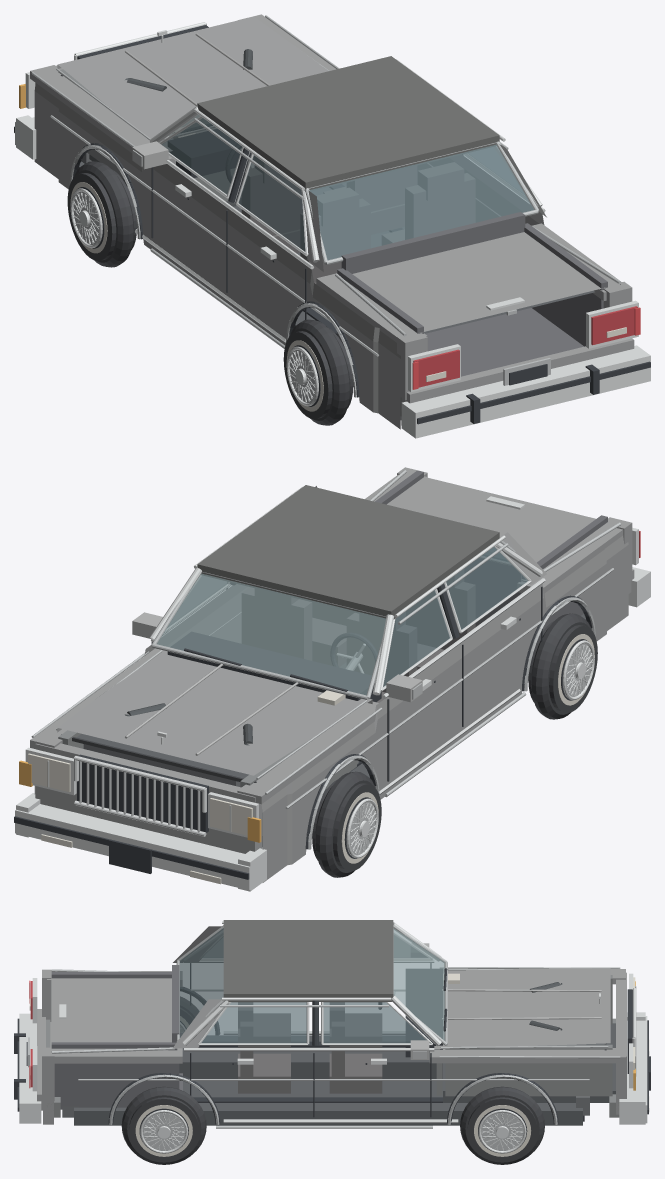
Rendered from Bama_Box_Sedan_Stock.glb.
3 views of the same model, one above another, from view 1: azimuth 30°, elevation 25°; view 2: azimuth 150°, elevation 25°; view 3: azimuth 270°, elevation 25° (orthographic). The views are drawn at different scales.
Visible parts, largest first — view 1: Vinyl_Roof_Structure, Body_Quarter_Left, Hood_Outer_Skin, Tinted_Rear_Glass, Trunk_Lid_Outer, Rear_Bumper_Chrome, Cargo_Floor_Carpet, Cargo_Front_Wall, Rear_Door_Tinted_Window, Front_Door_Tinted_Window, Velour_Seat_Back_04, Trunk_Inner_Carpet_Right (+33 smaller); view 2: Vinyl_Roof_Structure, Body_Quarter_Left, Hood_Outer_Skin, Laminated_Windshield, Trunk_Lid_Outer, Front_Bumper, Dashboard, Front_Nose, Main_Grille_Depth, Velour_Seat_Back_03, Rear_Door_Tinted_Window, Front_Fender_Shelf (+33 smaller); view 3: Vinyl_Roof_Structure, Hood_Outer_Skin, Full_Floorpan, Trunk_Lid_Outer, Engine_Inner_Fender_02, Trunk_Inner_Carpet_Right, Center_Tunnel, Laminated_Windshield, Rear_Door_Tinted_Window_02, Front_Door_Tinted_Window_02, Tinted_Rear_Glass, Front_Fender_Shelf_02 (+46 smaller).
Boxes of the visible parts, box(x1,y1,x2,y2) form: Vinyl_Roof_Structure: box(197, 56, 499, 191); Body_Quarter_Left: box(34, 83, 400, 429); Hood_Outer_Skin: box(57, 16, 327, 151); Tinted_Rear_Glass: box(309, 144, 533, 260); Trunk_Lid_Outer: box(335, 232, 620, 336); Rear_Bumper_Chrome: box(401, 345, 650, 438); Cargo_Floor_Carpet: box(425, 308, 583, 376); Cargo_Front_Wall: box(341, 212, 525, 273); Rear_Door_Tinted_Window: box(238, 155, 305, 251); Front_Door_Tinted_Window: box(161, 118, 242, 194); Velour_Seat_Back_04: box(405, 173, 475, 239); Trunk_Inner_Carpet_Right: box(524, 223, 607, 346); Vinyl_Roof_Structure: box(197, 485, 499, 619); Body_Quarter_Left: box(261, 535, 628, 882); Hood_Outer_Skin: box(57, 650, 372, 775); Laminated_Windshield: box(157, 574, 385, 694); Trunk_Lid_Outer: box(373, 472, 616, 580); Front_Bumper: box(15, 804, 263, 890); Dashboard: box(167, 632, 381, 702); Front_Nose: box(35, 743, 261, 853); Main_Grille_Depth: box(77, 754, 208, 832); Velour_Seat_Back_03: box(242, 587, 311, 660); Rear_Door_Tinted_Window: box(446, 547, 527, 629); Front_Fender_Shelf: box(237, 701, 378, 804); Vinyl_Roof_Structure: box(223, 920, 393, 1001); Hood_Outer_Skin: box(434, 968, 610, 1049); Full_Floorpan: box(74, 1035, 582, 1125); Trunk_Lid_Outer: box(51, 971, 178, 1053); Engine_Inner_Fender_02: box(445, 1044, 612, 1096); Trunk_Inner_Carpet_Right: box(51, 1042, 177, 1106); Center_Tunnel: box(179, 1050, 442, 1078); Laminated_Windshield: box(393, 929, 444, 1040); Rear_Door_Tinted_Window_02: box(201, 1002, 306, 1043); Front_Door_Tinted_Window_02: box(323, 1002, 426, 1043); Tinted_Rear_Glass: box(179, 928, 223, 1037); Front_Fender_Shelf_02: box(429, 1048, 625, 1063).
Bounding box in the file's own units: 2.32 × 1.61 × 5.78.
